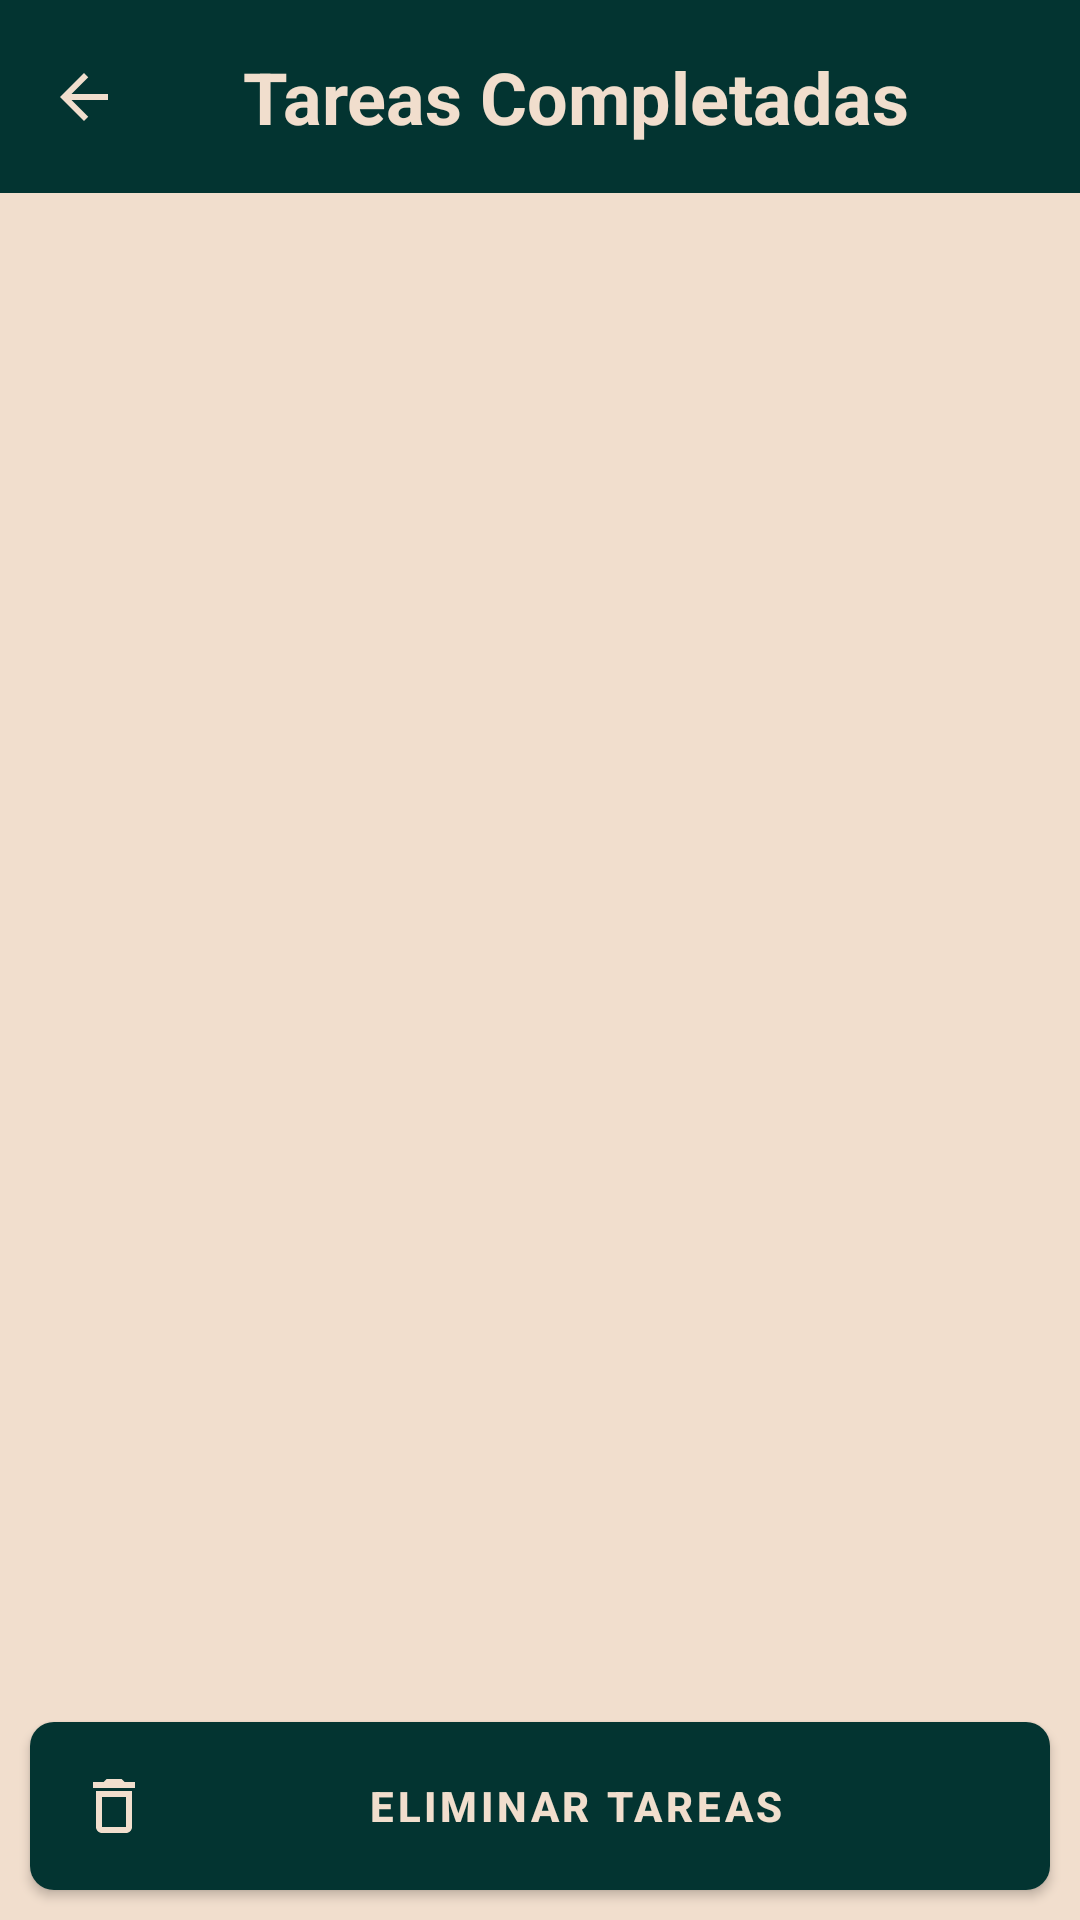

Screen size 1080 × 1920. Icon name, then its box in pixels as (left=x1, top=y1, right=x2, bottom=y2):
Regresar: (left=60, top=73, right=108, bottom=121)
